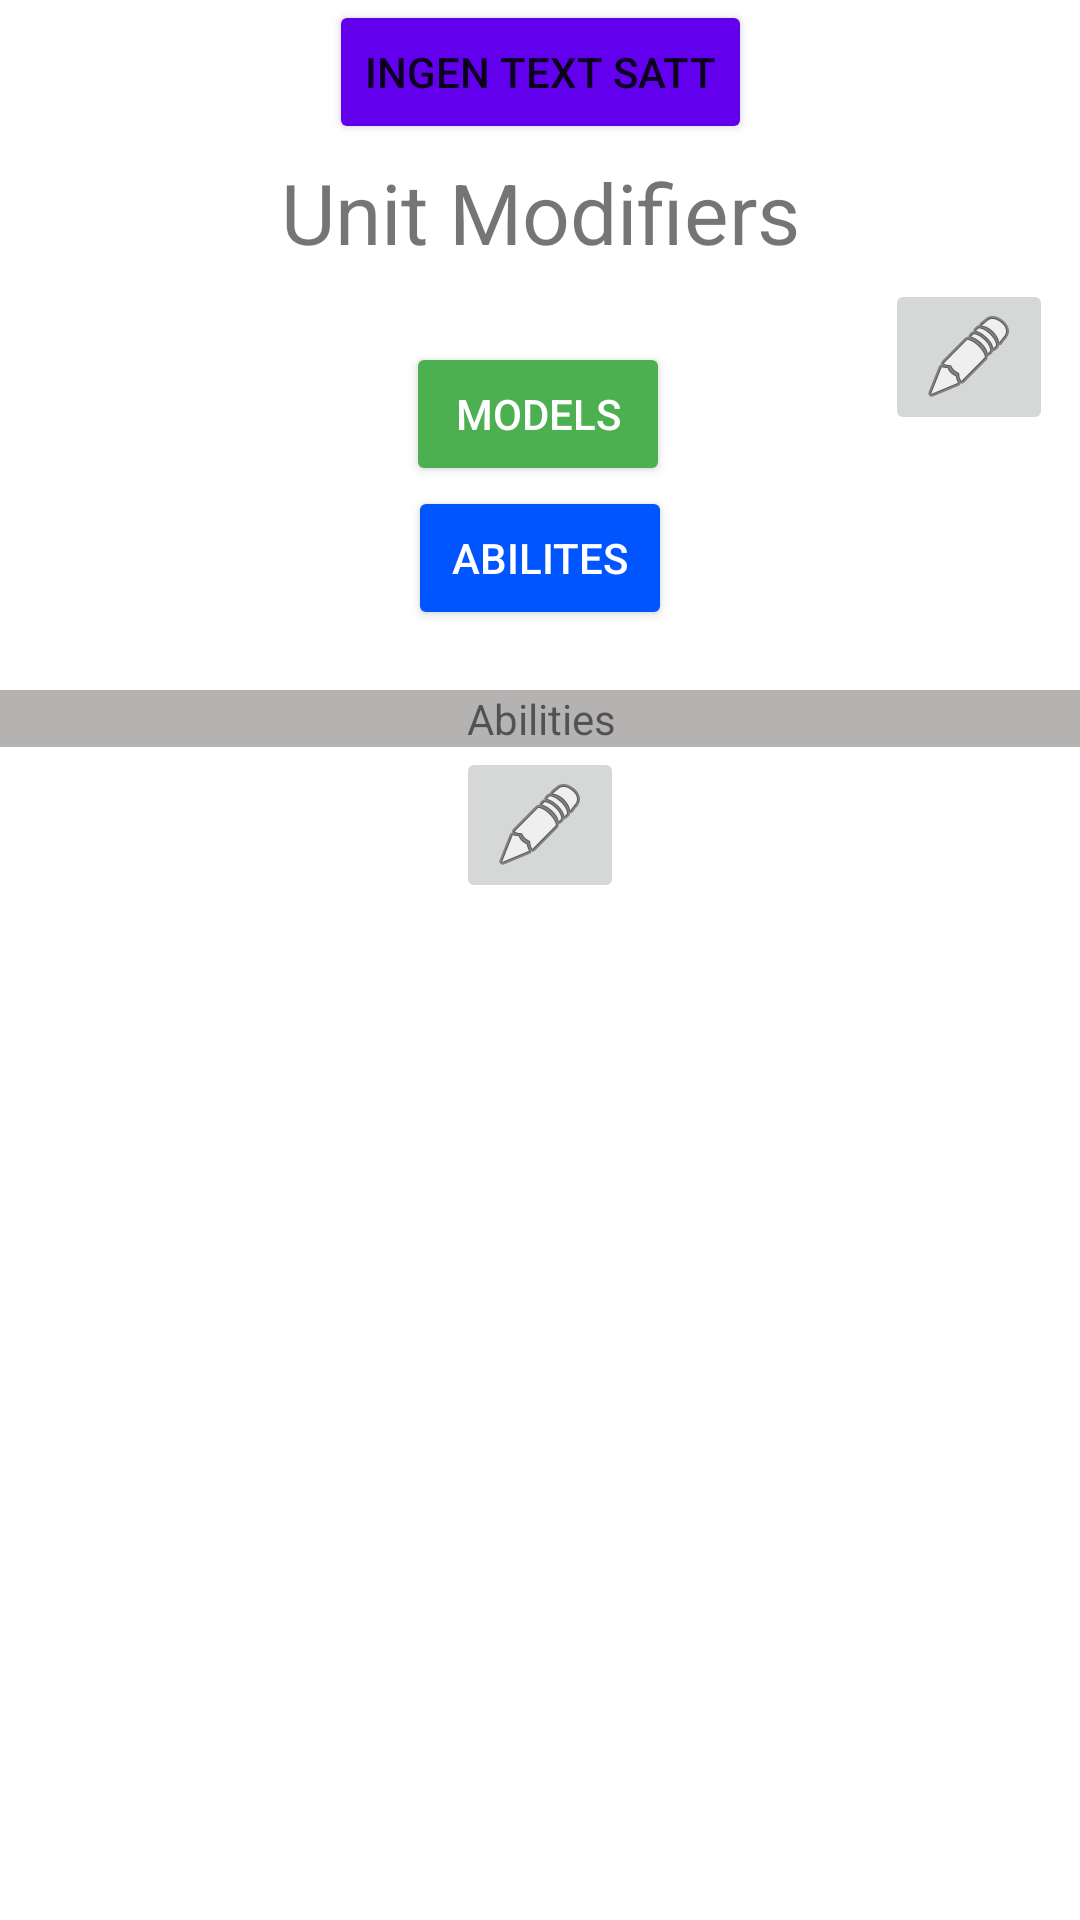

Icons on this 1080x1920 Android screen, each with the point to tap as (x,y):
edit: (969,357), (540,825)
